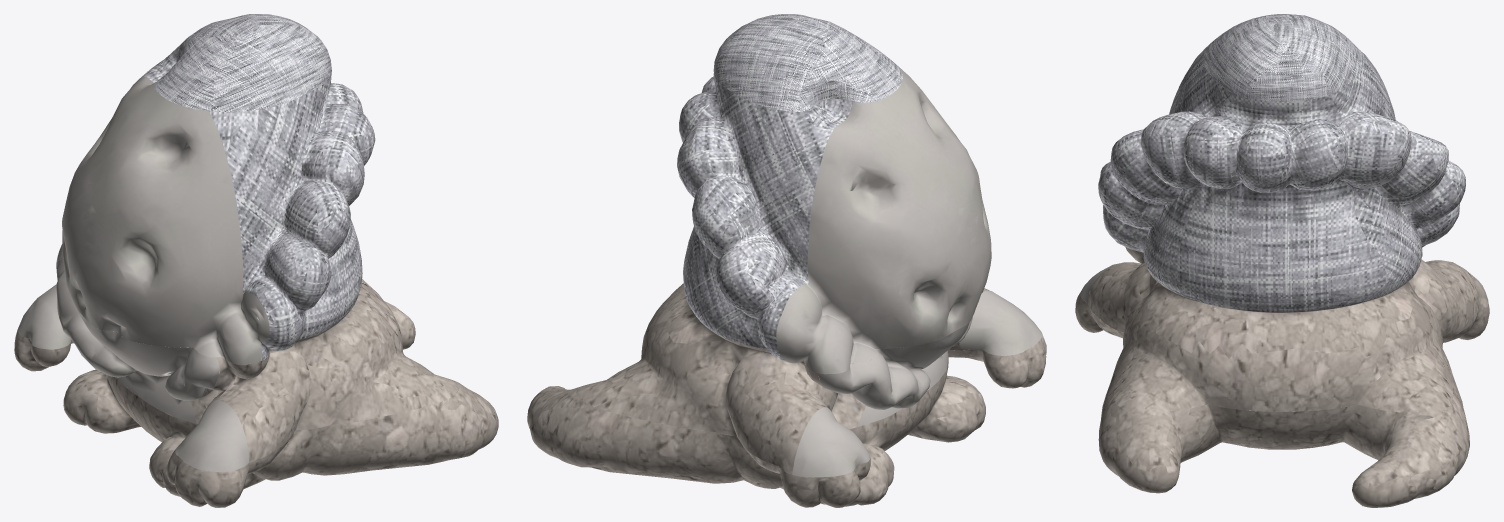
File: 23-blob-texture-bodies--cute_blob_creature_3d_model.glb
3 renders of one model, left to right at view 1: azimuth 30°, elevation 25°; view 2: azimuth 150°, elevation 25°; view 3: azimuth 270°, elevation 25°, orthographic. The views are drawn at different scales.
Visible parts, largest first — view 1: arms_mesh, feet_mesh, body_mesh, head_mesh; view 2: arms_mesh, feet_mesh, body_mesh, head_mesh; view 3: feet_mesh, body_mesh, head_mesh.
Boxes of the visible parts, x1,y1,x2,y2 form: arms_mesh: (17,76,269,471); feet_mesh: (14,258,498,507); body_mesh: (139,55,375,360); head_mesh: (154,14,331,112); arms_mesh: (776,69,1042,477); feet_mesh: (527,283,1046,507); body_mesh: (677,65,902,361); head_mesh: (713,14,902,111); feet_mesh: (1075,245,1489,507); body_mesh: (1098,46,1465,312); head_mesh: (1202,14,1364,101).
Size of the model in its own units: 2.95 by 3 by 2.86.
Materials: 4 (4 with a texture image).
